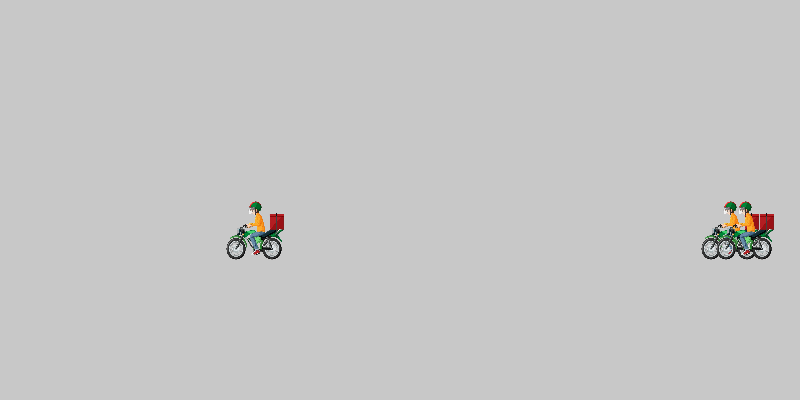helmet: (225, 200, 285, 260), (700, 200, 760, 260), (715, 200, 775, 260)
